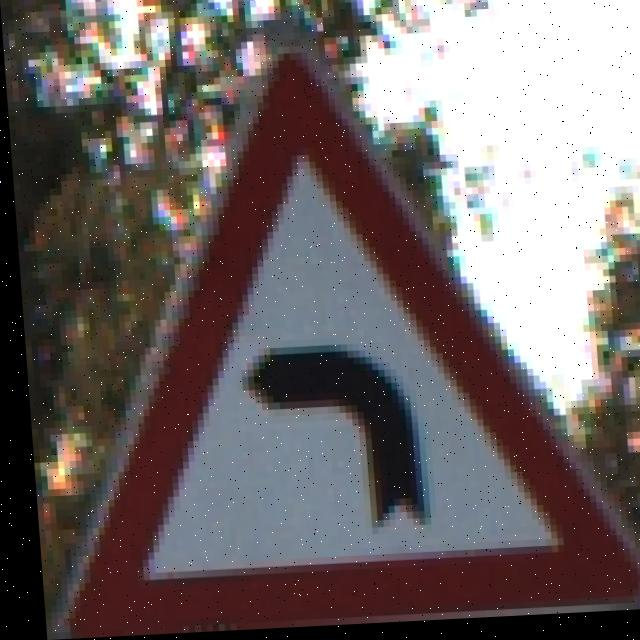left_turn: (35, 35, 640, 638)
